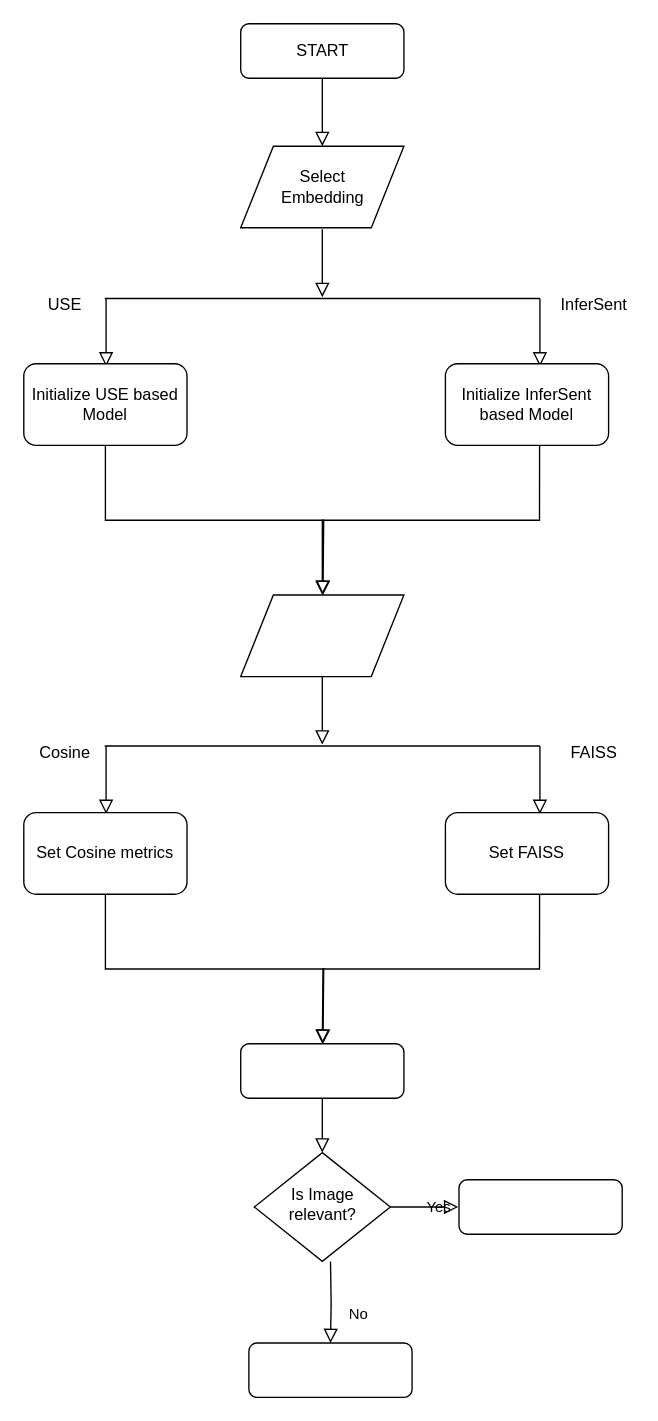
The diagram is 658 pixels wide and 1421 high, and some of its shapes have lost their labels. Each missing label, with the centre of its shape:
"Predict Image using the model" belongs at point (321, 1070).
"Relevant Image count + 0" belongs at point (330, 1369).
"Relevant Image count +1" belongs at point (540, 1206).
"Select Distance Metrics" belongs at point (321, 635).
